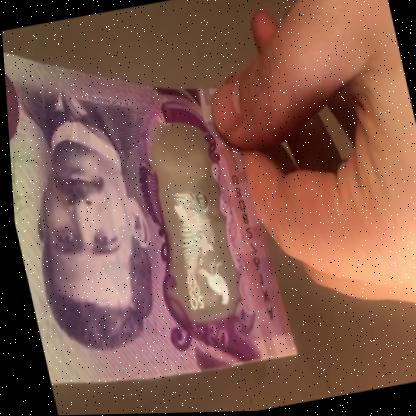50F: (148, 142, 237, 322)
